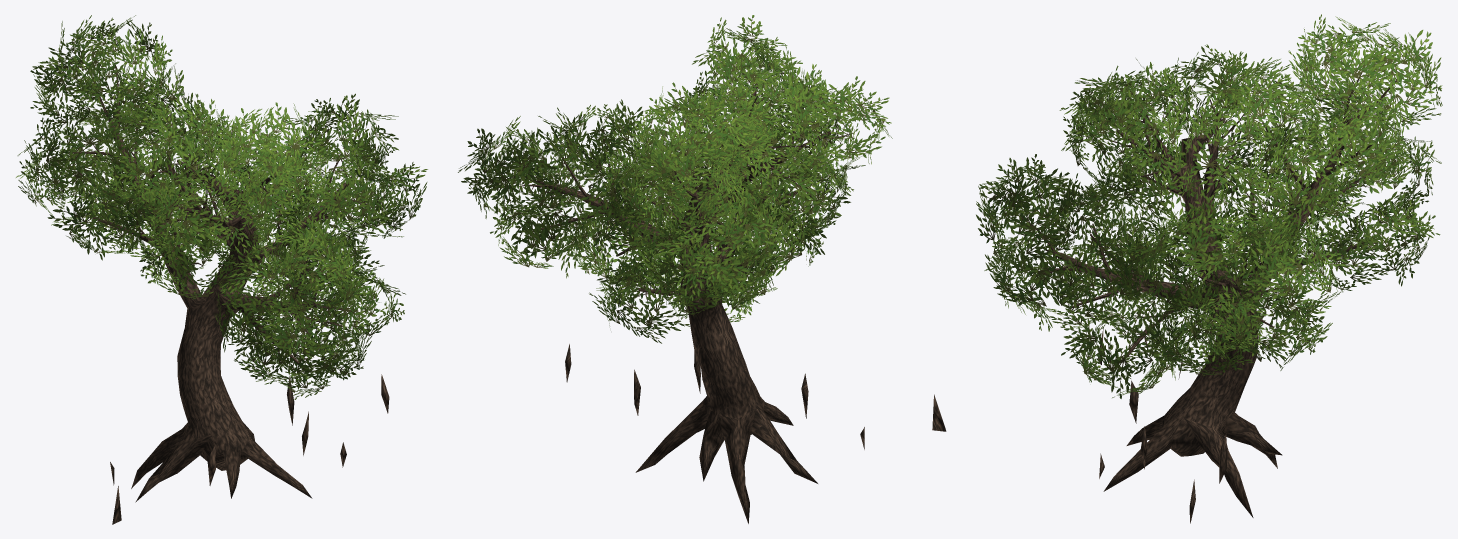
File: Oak_01.lod1.glb
3 views of the same model, side by side, from view 1: azimuth 30°, elevation 25°; view 2: azimuth 150°, elevation 25°; view 3: azimuth 270°, elevation 25° (orthographic). The views are drawn at different scales.
Parts seen in each view (by area): view 1: Leaves, Trunk; view 2: Leaves, Trunk; view 3: Leaves, Trunk.
Boxes of the visible parts, x1,y1,x2,y2 form: Leaves: [16, 15, 427, 399]; Trunk: [69, 64, 389, 524]; Leaves: [458, 15, 892, 343]; Trunk: [519, 73, 946, 523]; Leaves: [976, 14, 1442, 398]; Trunk: [1018, 70, 1396, 523].
Bounding box in the file's own units: 11.97 × 13.26 × 12.3.
2 materials, 2 textured.
